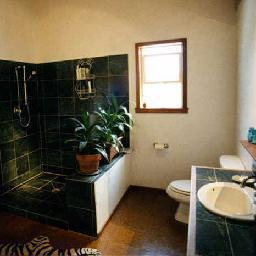Ducha: (1, 2, 72, 228)
Lavamanos: (198, 168, 253, 225)
Matera: (73, 118, 102, 174), (101, 104, 127, 160)
Ventana: (134, 42, 186, 110)
